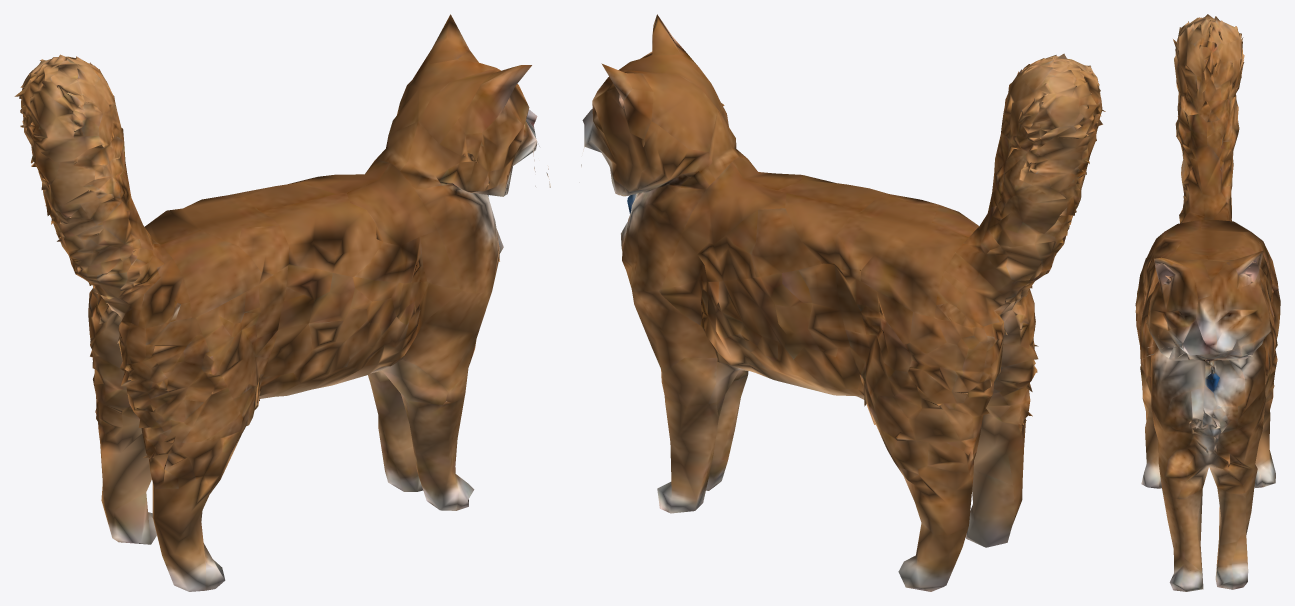
File: CHEDDARVPD-lo.glb
3 renders of one model, left to right at view 1: azimuth 30°, elevation 25°; view 2: azimuth 150°, elevation 25°; view 3: azimuth 270°, elevation 25°, orthographic. The views are drawn at different scales.
Parts seen in each view (by area): view 1: tripo_node_597611a3-5478-4726-b10e-23b267934ae9; view 2: tripo_node_597611a3-5478-4726-b10e-23b267934ae9; view 3: tripo_node_597611a3-5478-4726-b10e-23b267934ae9.
Boxes of the visible parts, x1,y1,x2,y2 form: tripo_node_597611a3-5478-4726-b10e-23b267934ae9: (14, 14, 550, 591); tripo_node_597611a3-5478-4726-b10e-23b267934ae9: (581, 14, 1105, 591); tripo_node_597611a3-5478-4726-b10e-23b267934ae9: (1135, 14, 1280, 591).
Bounding box in the file's own units: 1.01 × 0.9942 × 0.3081.
1 material, 1 textured.
